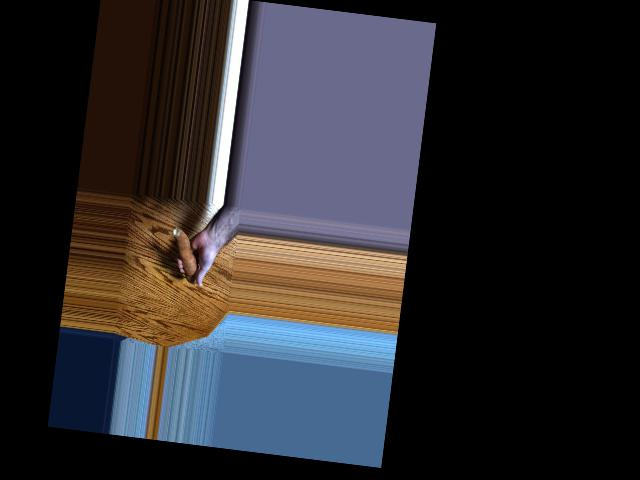sweet_potato: (167, 225, 203, 282)
